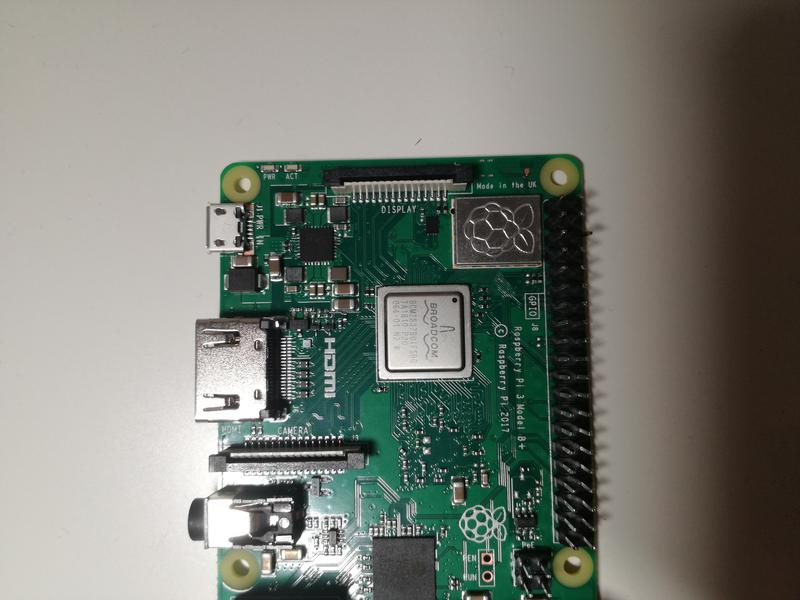Raspberry_Pi_3: (181, 139, 604, 599)
